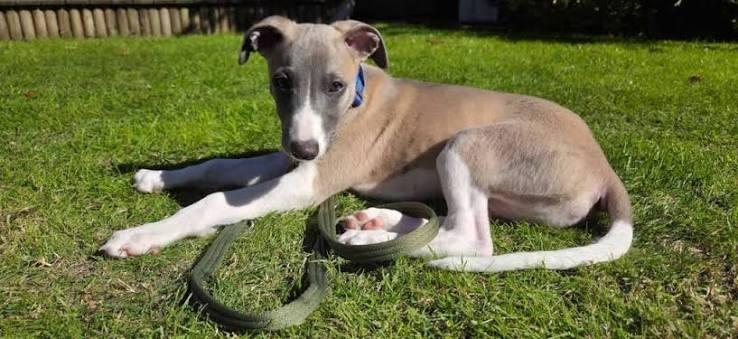puppy-dog: (98, 15, 634, 277)
